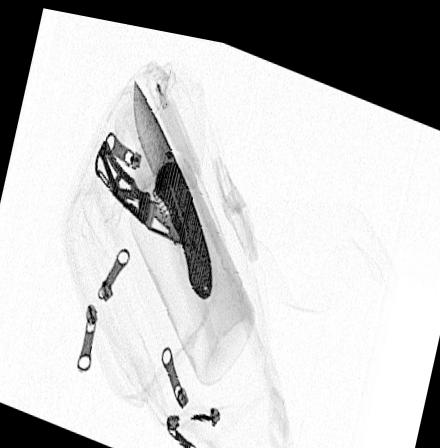Knife: (132, 74, 211, 291), (93, 135, 197, 239)
